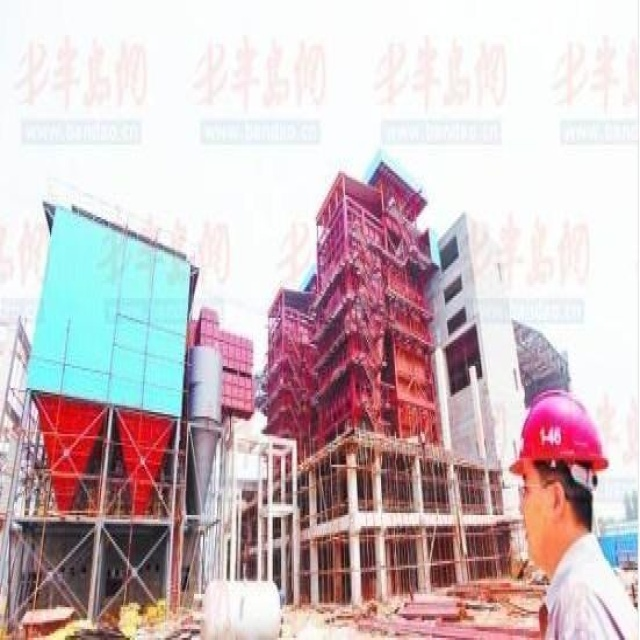Helmet: (496, 382, 612, 581)
